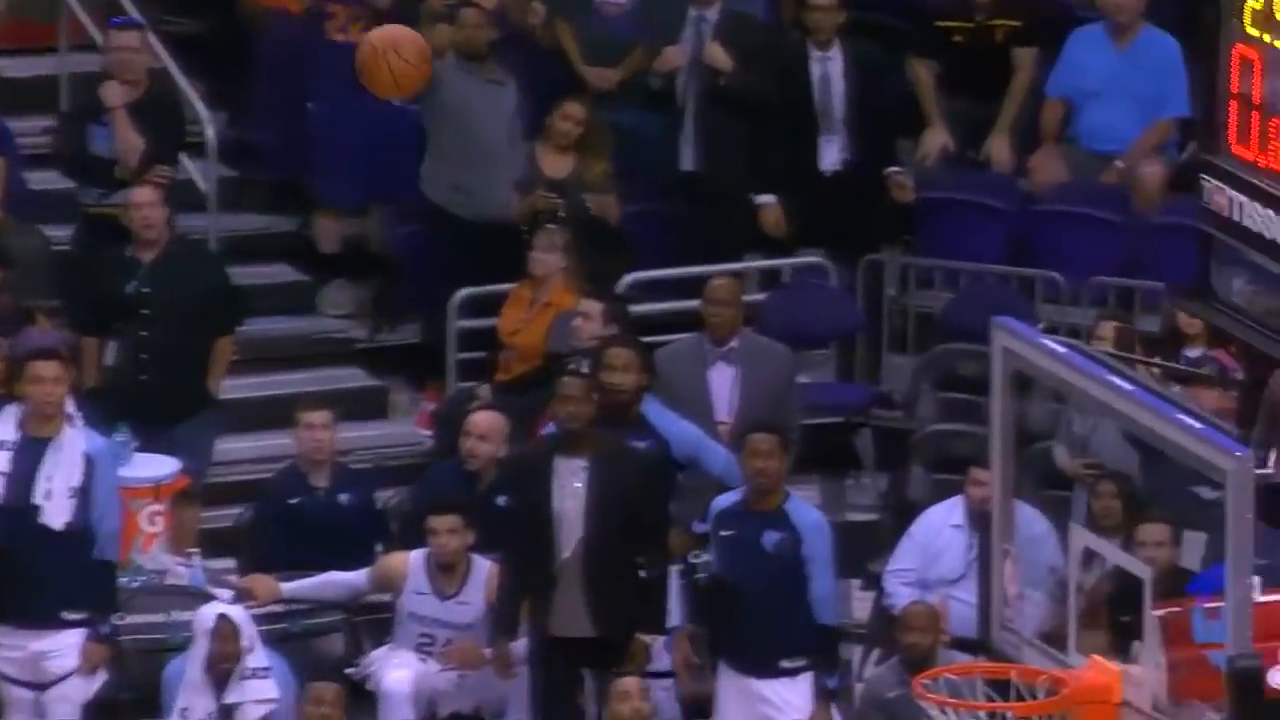ball: (351, 21, 435, 105)
